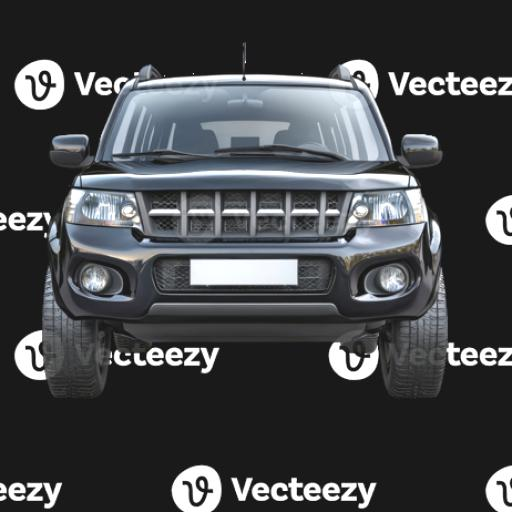suv: (42, 65, 446, 396)
